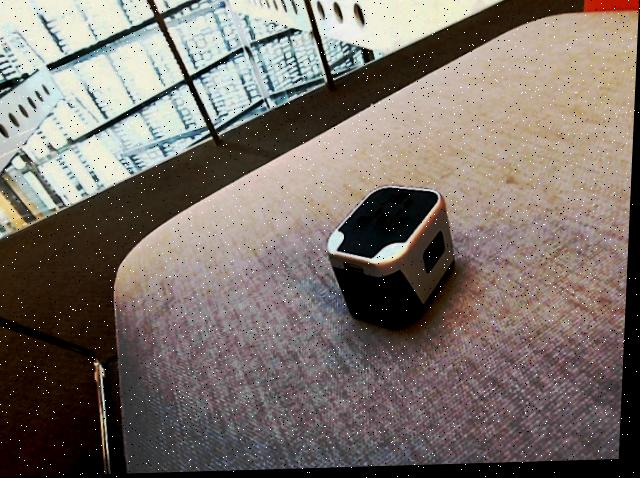adapter: (325, 186, 460, 334)
